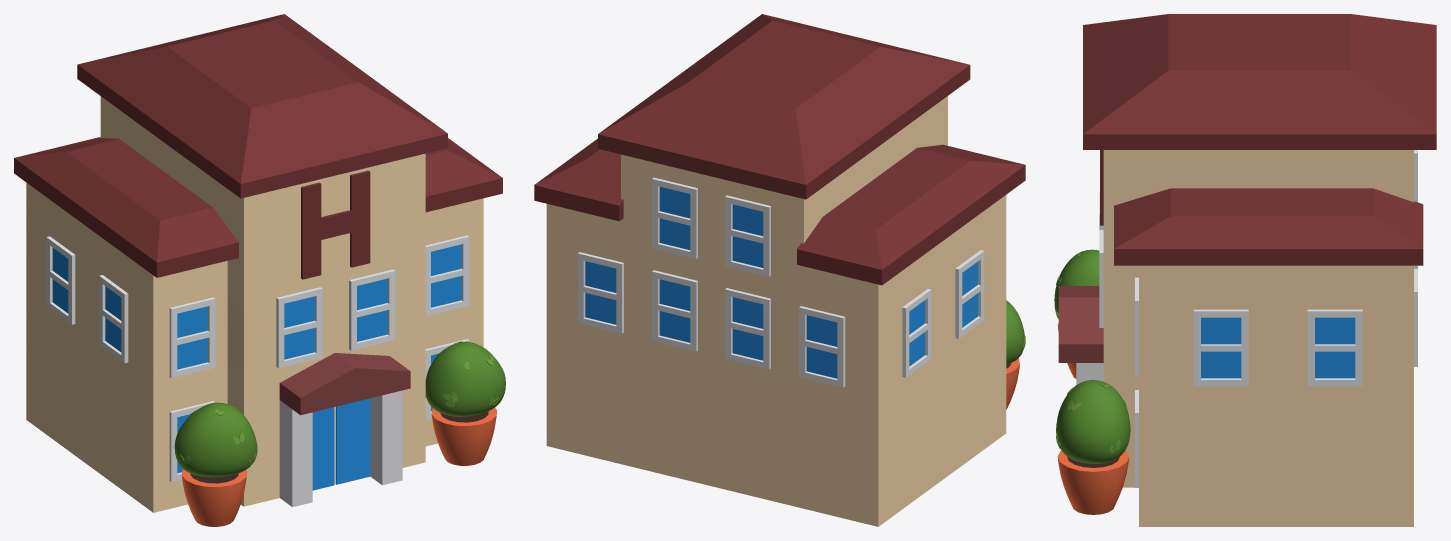
Rendered from hotel.fbx.
3 views of the same model, side by side, from view 1: azimuth 30°, elevation 25°; view 2: azimuth 150°, elevation 25°; view 3: azimuth 270°, elevation 25° (orthographic). The views are drawn at different scales.
Parts seen in each view (by area): view 1: Cube.490; view 2: Cube.490; view 3: Cube.490.
Boxes of the visible parts, x1,y1,x2,y2 form: Cube.490: (14,14,505,526); Cube.490: (534,14,1025,526); Cube.490: (1054,14,1436,526).
Size of the model in its own units: 202 by 207 by 179.
Materials: 1 (1 with a texture image).
